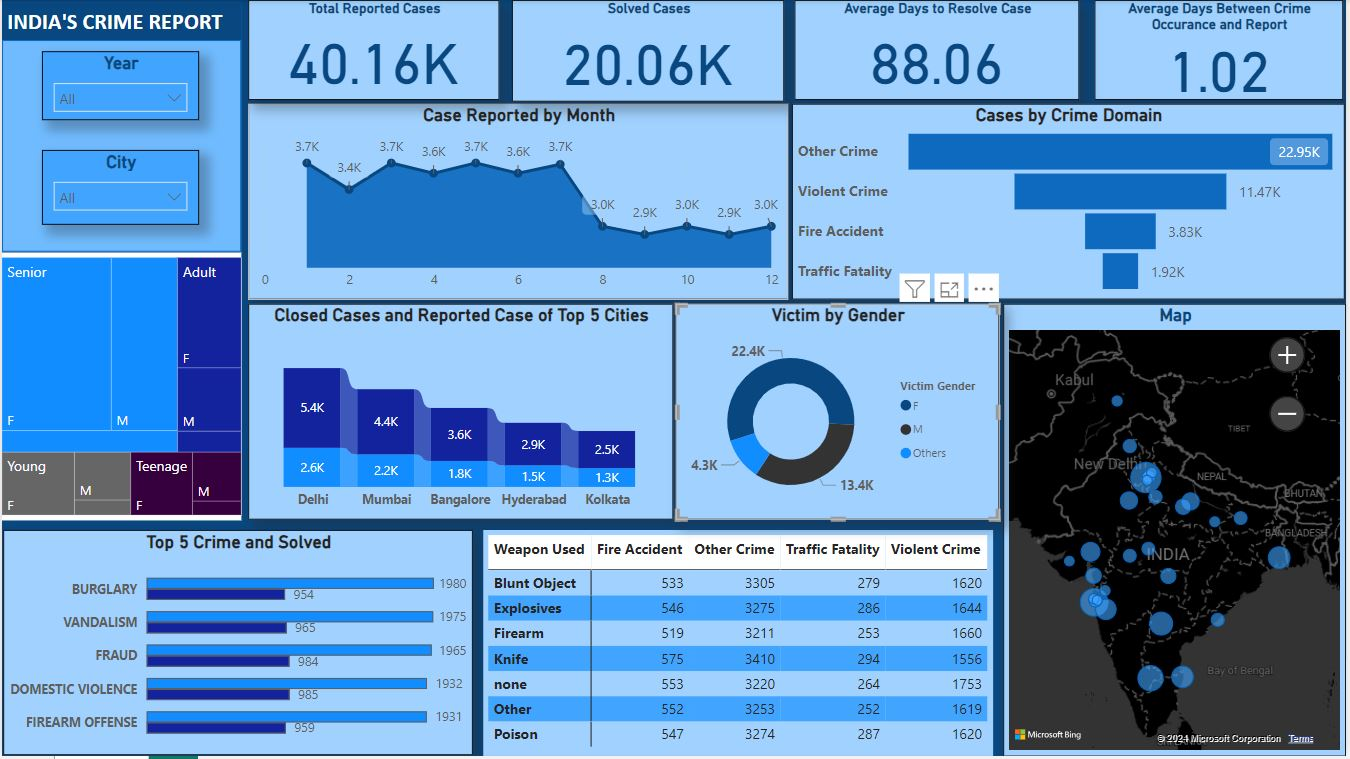

The page's visual inventory and layout, read from the dashboard file:
{"tool":"powerbi","page":{"name":"Page 1","canvas":[1280,720],"ordinal":0},"visuals":[{"type":"lineChart","title":"Case Reported by Month","fields":{"Category":["india_crime.Month of occurance"],"Y":["CountNonNull(india_crime.Report Number)"]},"box":[234.6,98.8,514.6,186.6],"z":0},{"type":"card","title":"Total Reported Cases","fields":{"Values":["Count(india_crime.Report Number)"]},"box":[234.5,0,239.3,95.2],"z":1000},{"type":"card","title":"Solved Cases","fields":{"Values":["CountNonNull(india_crime.Case Closed)"]},"box":[485.7,0,259.5,96.4],"z":2000},{"type":"columnChart","title":"Closed Cases and Reported Case of Top 5 Cities","fields":{"Category":["india_crime.City"],"Y":["CountNonNull(india_crime.Date Case Closed)","Count(india_crime.Report Number)"]},"box":[234.6,289.5,404.8,205.8],"z":3000},{"type":"card","title":"Average Days Between Crime Occurance and Report","fields":{"Values":["Avg(india_crime.Days bw occ/report)"]},"box":[1040.5,0,236.9,95.2],"z":4000},{"type":"donutChart","title":"Victim by Gender","fields":{"Category":["india_crime.Victim Gender"],"Y":["CountNonNull(india_crime.Report Number)"]},"box":[642.2,289.5,308,205.8],"z":5000},{"type":"card","title":"Average Days to Resolve Case ","fields":{"Values":["Avg(india_crime.Resolved Duration)"]},"box":[754.8,0,271.4,95.2],"z":6000},{"type":"clusteredBarChart","title":"Top 5 Crime and Solved","fields":{"Category":["india_crime.Crime Description"],"Y":["Count(india_crime.Report Number)","CountNonNull(india_crime.Date Case Closed)"]},"box":[1.4,505,447.3,214.1],"z":7000},{"type":"funnel","title":"Cases by Crime Domain","fields":{"Category":["india_crime.Crime Domain"],"Y":["Count(india_crime.Report Number)"]},"box":[753.6,97.6,525,186.9],"z":8000},{"type":"treemap","fields":{"Group":["india_crime.Age Group"],"Values":["Count(india_crime.Report Number)"],"Details":["india_crime.Victim Gender"]},"box":[0,240.1,227.8,255.2],"z":9000},{"type":"textbox","title":"INDIA''S CRIME REPORT","box":[0,2.7,227.8,35.7],"z":10000},{"type":"map","title":"Map ","fields":{"Category":["india_crime.City"],"Size":["Count(india_crime.Report Number)"],"Y":["Avg(india_crime.Latitude)"],"X":["Avg(india_crime.Longitude)"]},"box":[953.7,289.5,326.6,430.9],"z":11000},{"type":"shape","box":[0,38.4,227.8,201.7],"z":12000},{"type":"slicer","title":"Year","fields":{"Values":["india_crime.Year of occurance"]},"box":[38.4,49.4,149.6,65.9],"z":13000},{"type":"slicer","title":"City","fields":{"Values":["india_crime.City"]},"box":[38.4,142.7,149.6,71.4],"z":14000},{"type":"pivotTable","fields":{"Rows":["india_crime.Weapon Used"],"Values":["Count(india_crime.Report Number)"],"Columns":["india_crime.Crime Domain"]},"box":[458.3,505,485.8,215.4],"z":15000}]}

Visuals, with their boxes in screenshot pixels (x1, y1, x2, y2), scaled from the page's 1280x720 canvas onto the 1350x759 screenshot:
"Case Reported by Month" lineChart: [x1=247, y1=104, x2=790, y2=301]
"Total Reported Cases" card: [x1=247, y1=0, x2=500, y2=100]
"Solved Cases" card: [x1=512, y1=0, x2=786, y2=102]
"Closed Cases and Reported Case of Top 5 Cities" columnChart: [x1=247, y1=305, x2=674, y2=522]
"Average Days Between Crime Occurance and Report" card: [x1=1097, y1=0, x2=1347, y2=100]
"Victim by Gender" donutChart: [x1=677, y1=305, x2=1002, y2=522]
"Average Days to Resolve Case " card: [x1=796, y1=0, x2=1082, y2=100]
"Top 5 Crime and Solved" clusteredBarChart: [x1=1, y1=532, x2=473, y2=758]
"Cases by Crime Domain" funnel: [x1=795, y1=103, x2=1349, y2=300]
treemap - india_crime.Age Group x Count(india_crime.Report Number): [x1=0, y1=253, x2=240, y2=522]
"INDIA''S CRIME REPORT" textbox: [x1=0, y1=3, x2=240, y2=40]
"Map " map: [x1=1006, y1=305, x2=1349, y2=758]
shape: [x1=0, y1=40, x2=240, y2=253]
"Year" slicer: [x1=40, y1=52, x2=198, y2=122]
"City" slicer: [x1=40, y1=150, x2=198, y2=226]
pivotTable - india_crime.Weapon Used x Count(india_crime.Report Number): [x1=483, y1=532, x2=996, y2=758]
